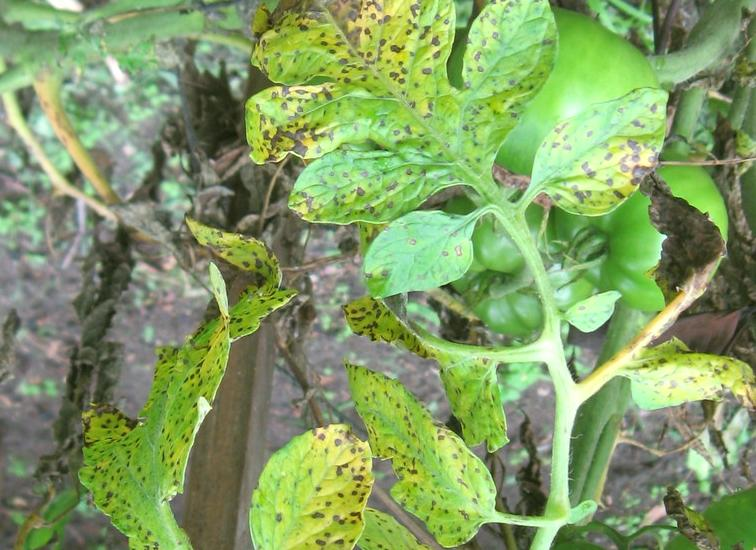Tomato Septoria leaf spot: (229, 0, 542, 248), (42, 262, 298, 550), (340, 342, 514, 550), (528, 80, 688, 213), (225, 421, 378, 550), (605, 345, 756, 425)
